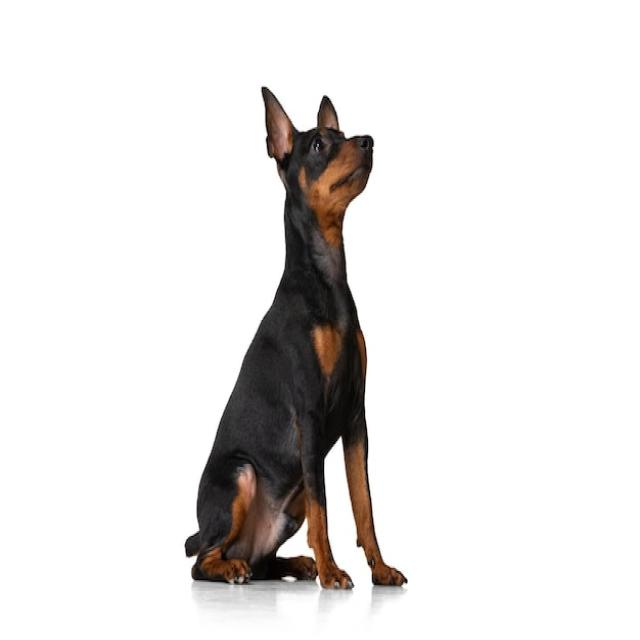Dog: (183, 86, 406, 590)
